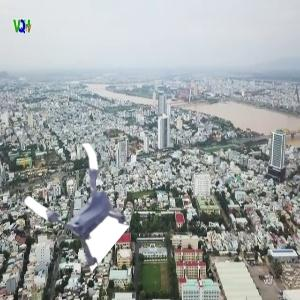drone: (32, 148, 137, 253)
